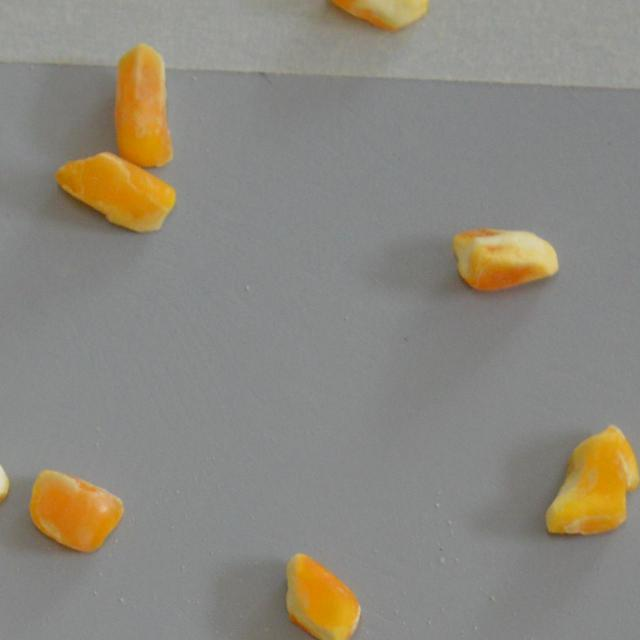estandar: (282, 552, 363, 640)
pelicula: (544, 424, 640, 541), (52, 149, 176, 238), (27, 465, 124, 552), (112, 41, 176, 168), (451, 226, 560, 291)
